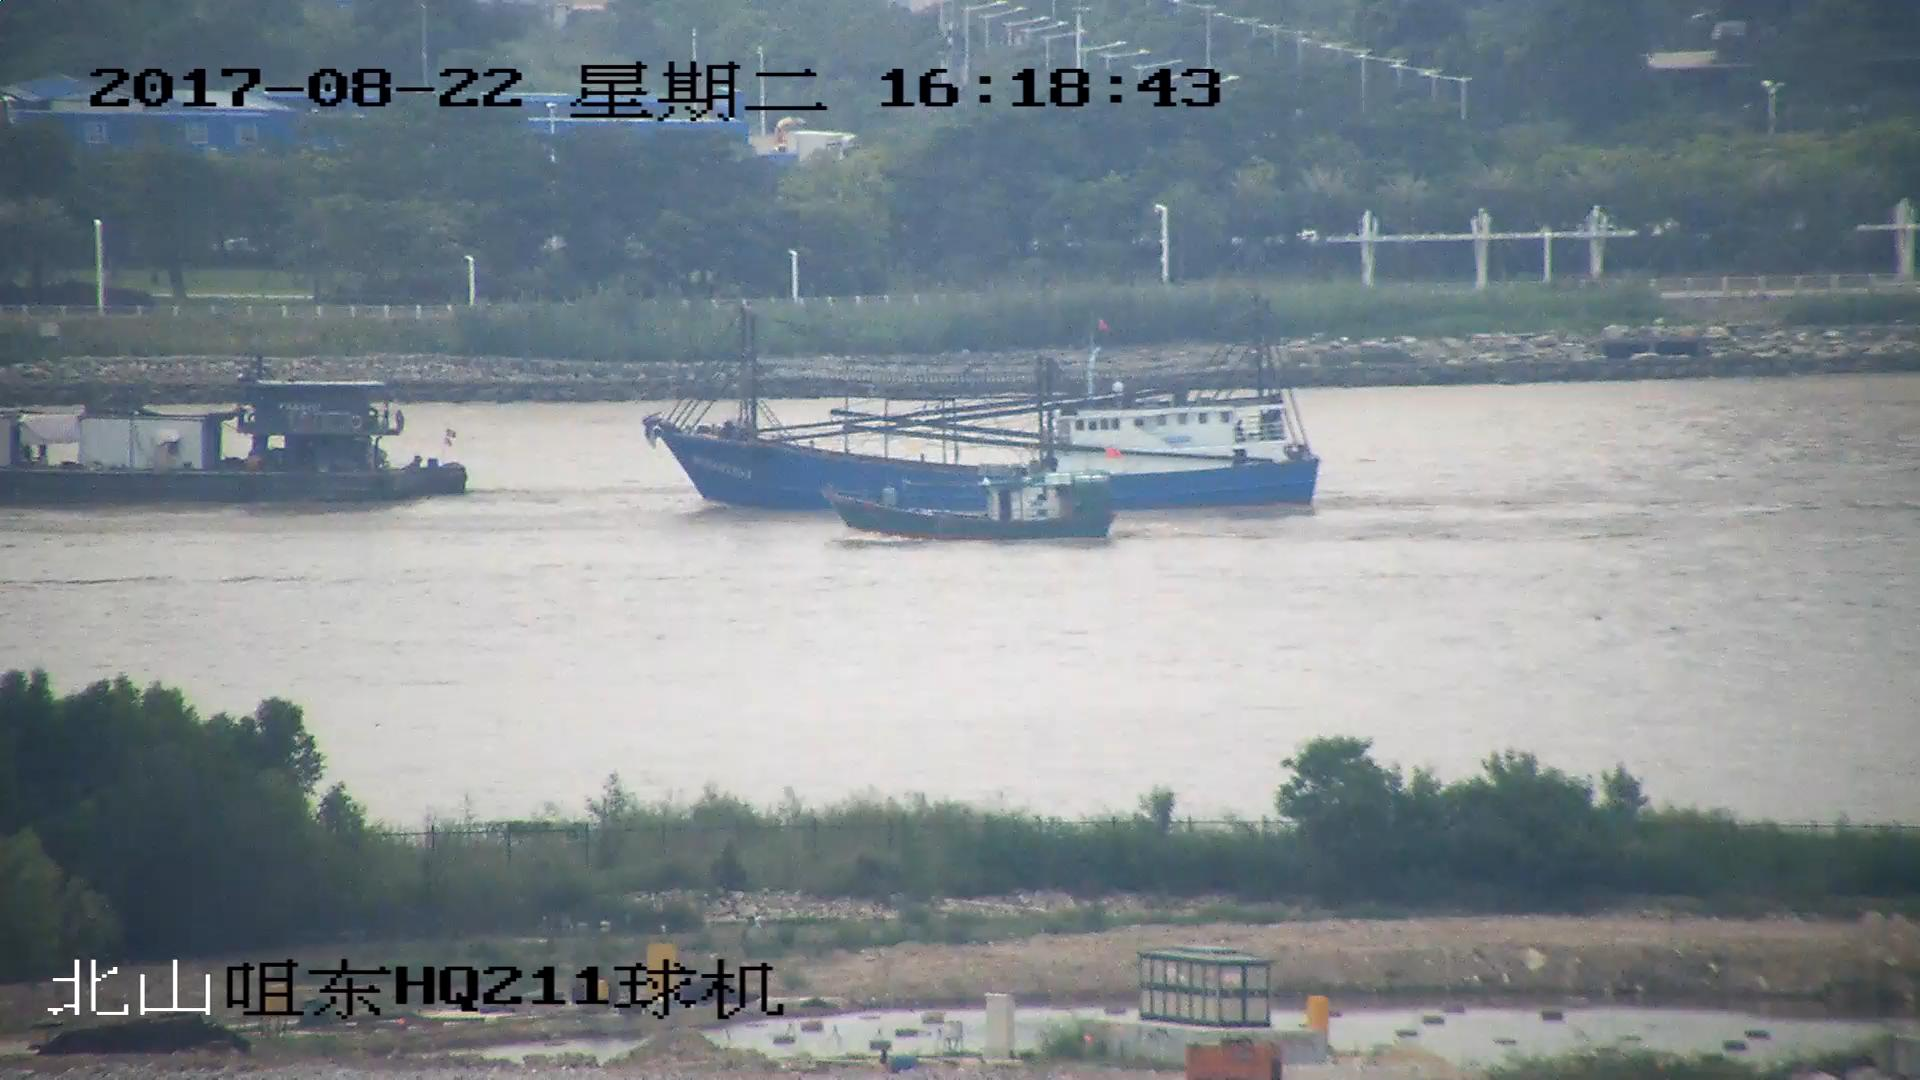bulk cargo carrier: (1, 365, 474, 508)
fishing boat: (638, 293, 1318, 512), (831, 463, 1114, 544)
